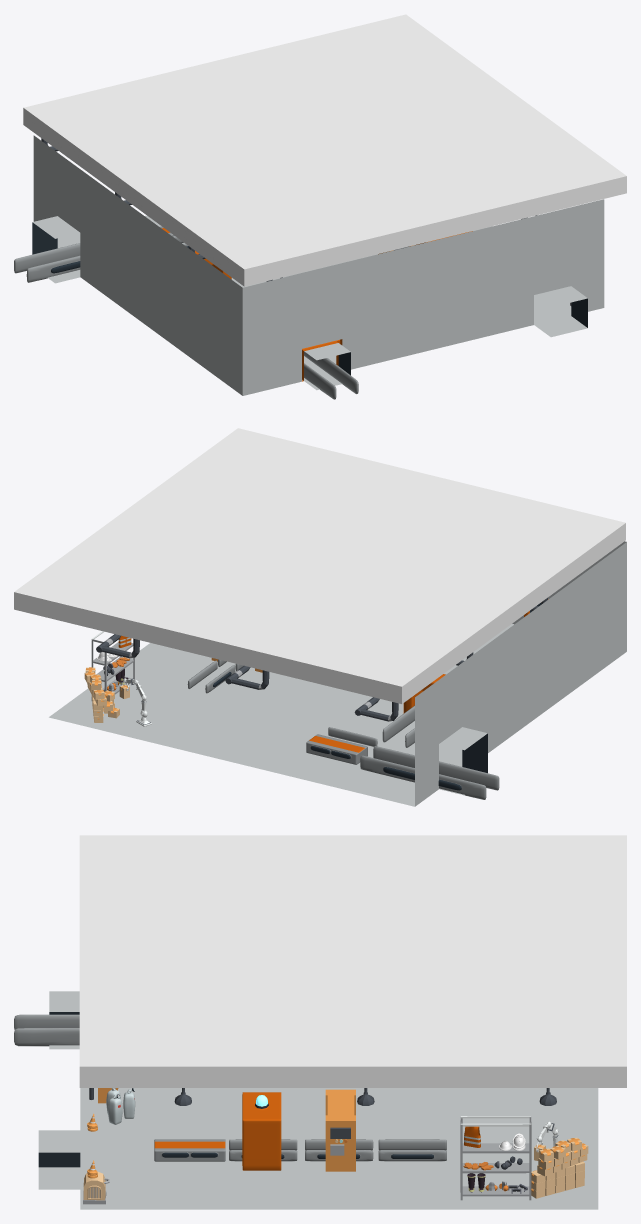
File: FabricaElementosFijosPisoSeparado.fbx
The picture shows the model from 3 angles, top to bottom: view 1: azimuth 30°, elevation 25°; view 2: azimuth 150°, elevation 25°; view 3: azimuth 270°, elevation 25°; orthographic projection. The views are drawn at different scales.
Parts seen in each view (by area): view 1: Techo, Paredes, Piso, base banda.006, base banda.004; view 2: Techo, Piso, Paredes, base banda.006, Mesa2, Estantería, base banda.004, base banda.002, Pila de cajas; view 3: Techo, Piso, calidad, Máquina, Estantería, Paredes, base banda.004, Mesa, base banda.002, Pila de cajas, PilaCajas, base banda.001 (+2 smaller).
Part boxes in pixels (bbox=[...]): Techo: bbox=[23, 14, 626, 286]; Paredes: bbox=[32, 135, 604, 395]; Piso: bbox=[48, 215, 587, 390]; base banda.006: bbox=[14, 243, 80, 282]; base banda.004: bbox=[304, 351, 358, 399]; Techo: bbox=[14, 428, 625, 721]; Piso: bbox=[49, 623, 513, 806]; Paredes: bbox=[415, 541, 626, 806]; base banda.006: bbox=[360, 746, 499, 799]; Mesa2: bbox=[306, 734, 367, 764]; Estantería: bbox=[91, 631, 134, 700]; base banda.004: bbox=[382, 705, 414, 747]; base banda.002: bbox=[187, 660, 235, 693]; Pila de cajas: bbox=[84, 667, 106, 706]; Techo: bbox=[79, 835, 626, 1105]; Piso: bbox=[38, 1045, 598, 1209]; calidad: bbox=[242, 1092, 281, 1170]; Máquina: bbox=[325, 1089, 355, 1171]; Estantería: bbox=[460, 1116, 531, 1200]; Paredes: bbox=[38, 991, 80, 1167]; base banda.004: bbox=[14, 1014, 79, 1046]; Mesa: bbox=[154, 1139, 225, 1161]; base banda.002: bbox=[378, 1139, 446, 1161]; Pila de cajas: bbox=[537, 1137, 588, 1176]; PilaCajas: bbox=[531, 1161, 584, 1198]; base banda.001: bbox=[305, 1139, 373, 1161].
Bounding box in the file's own units: 4292 × 1225 × 4293.
